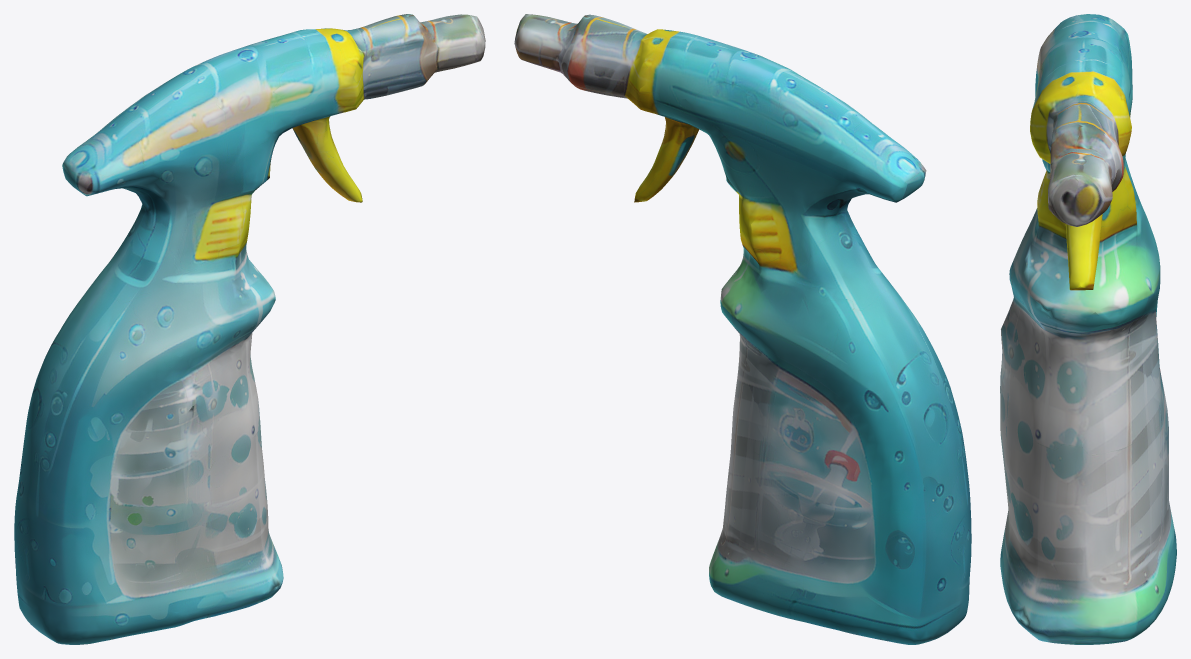
The model's file is Brumisateur 1.fbx.
3 renders of one model, left to right at view 1: azimuth 30°, elevation 25°; view 2: azimuth 150°, elevation 25°; view 3: azimuth 270°, elevation 25°, orthographic. The views are drawn at different scales.
Parts seen in each view (by area): view 1: Mesh_0; view 2: Mesh_0; view 3: Mesh_0.
Boxes of the visible parts, left/top/right/bottom form: Mesh_0: left=14, top=14, right=485, bottom=644; Mesh_0: left=514, top=14, right=971, bottom=644; Mesh_0: left=1000, top=14, right=1176, bottom=644.
Bounding box in the file's own units: 104 × 120 × 31.23.
Materials: 1 (1 with a texture image).
